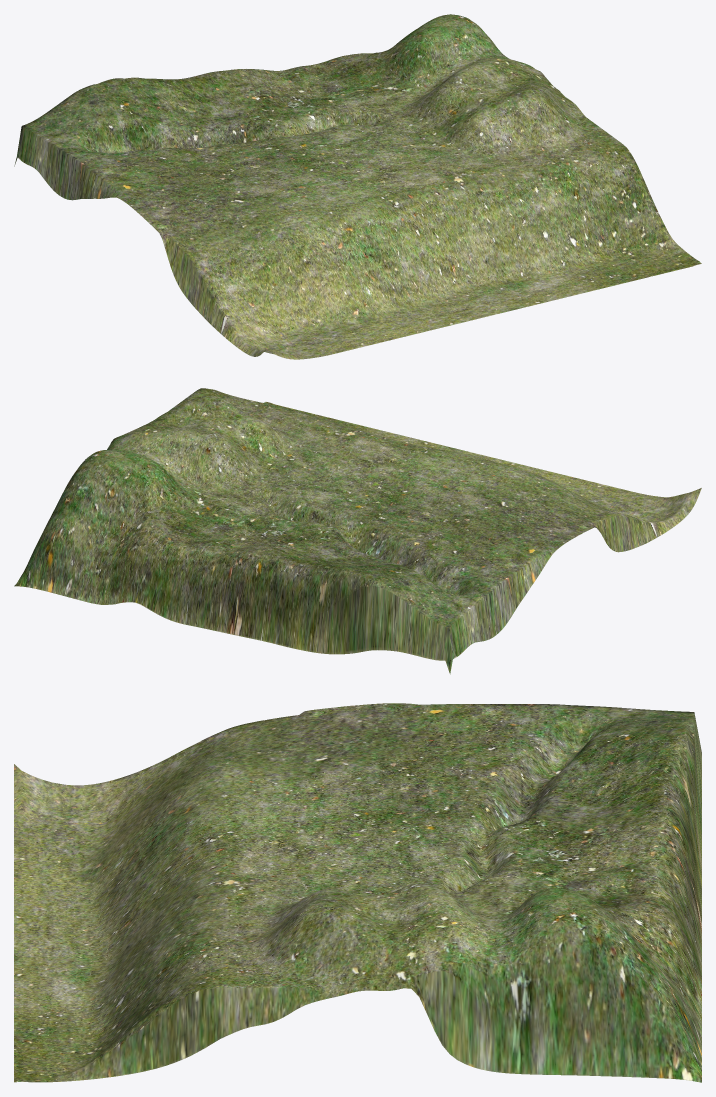
Rendered from TerrainMesh.fbx.
3 renders of one model, top to bottom at view 1: azimuth 30°, elevation 25°; view 2: azimuth 150°, elevation 25°; view 3: azimuth 270°, elevation 25°, orthographic. The views are drawn at different scales.
Visible parts, largest first — view 1: Terrain; view 2: Terrain; view 3: Terrain.
Boxes of the visible parts, <box> form: Terrain: <box>14,14,701,359</box>; Terrain: <box>14,388,701,674</box>; Terrain: <box>14,703,701,1082</box>.
Bounding box in the file's own units: 12500 × 2909 × 12500.
1 material, 1 textured.
